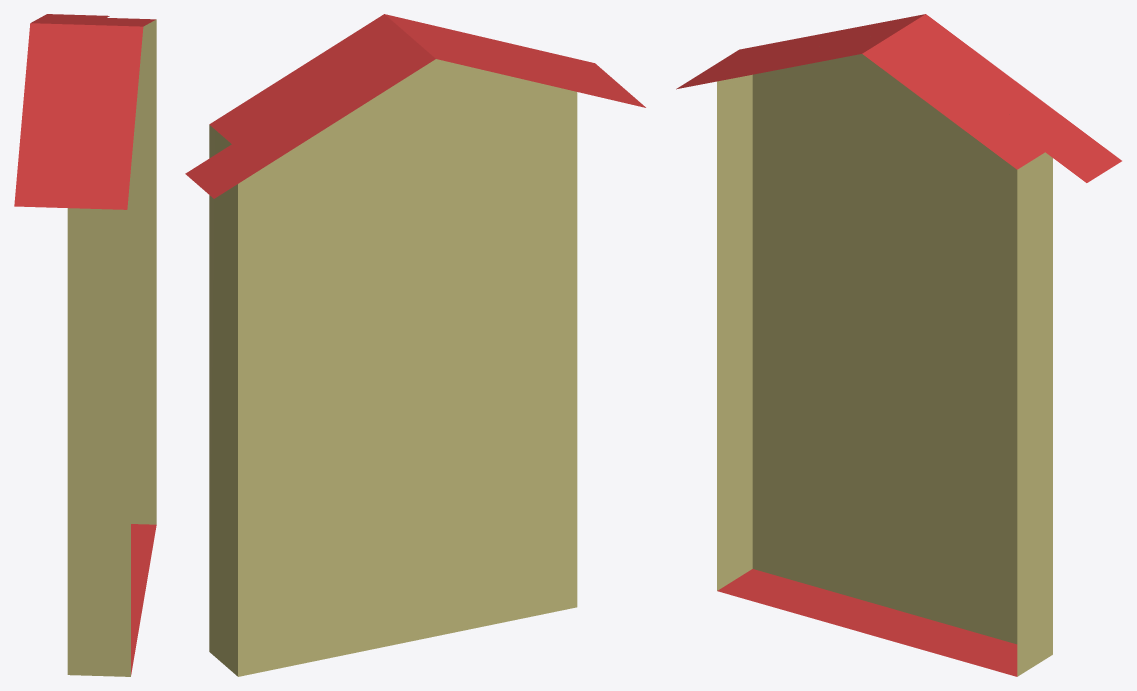
3 renders of one model, left to right at view 1: azimuth 30°, elevation 25°; view 2: azimuth 150°, elevation 25°; view 3: azimuth 270°, elevation 25°, orthographic. The views are drawn at different scales.
Bounding box in the file's own units: 6.49 × 8.92 × 12.74.
